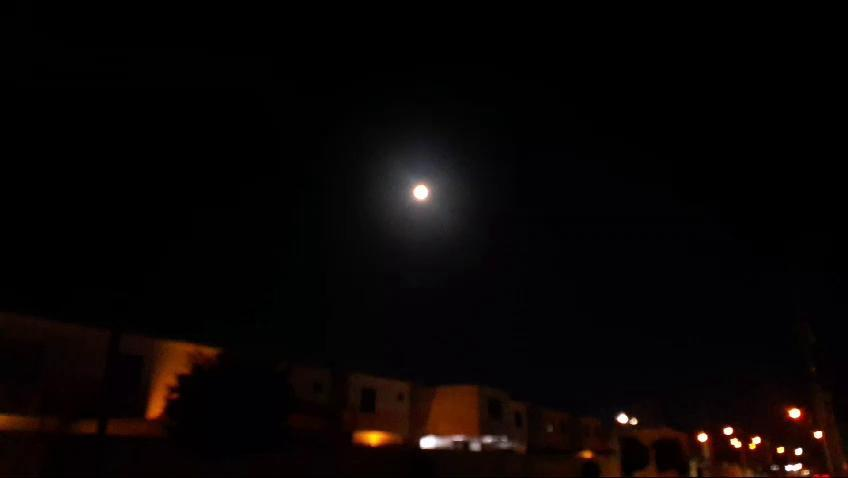moon: (411, 180, 433, 205)
